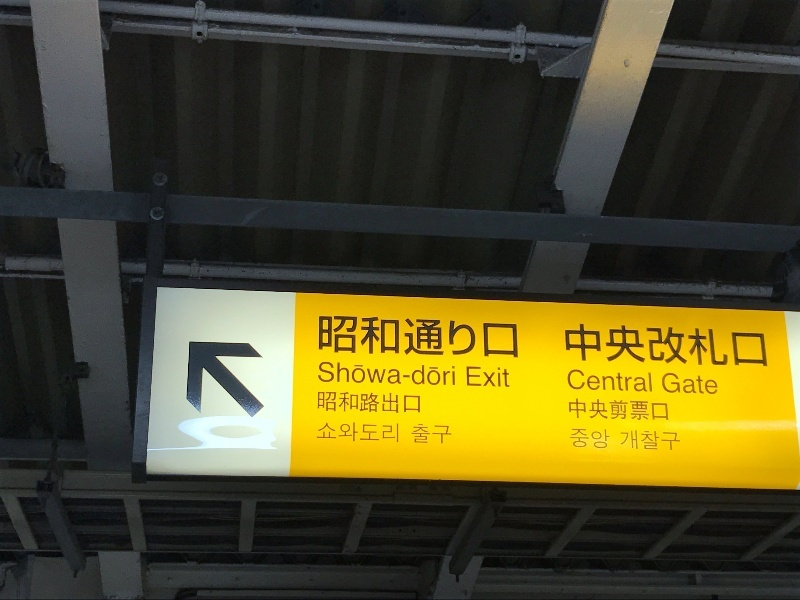text: (577, 322, 592, 370), (593, 322, 608, 370), (609, 322, 624, 370), (625, 322, 640, 370), (641, 322, 656, 370), (657, 322, 672, 370), (673, 322, 688, 370), (689, 322, 704, 370), (705, 322, 720, 370), (721, 322, 736, 370), (737, 322, 752, 370), (753, 322, 768, 370), (321, 314, 336, 361), (337, 314, 352, 361), (353, 314, 368, 361), (369, 314, 384, 361), (385, 314, 400, 361), (401, 314, 416, 361), (417, 314, 432, 361), (433, 314, 448, 361), (449, 314, 464, 361), (465, 314, 480, 361), (481, 314, 496, 361), (497, 314, 512, 361), (565, 322, 576, 370), (321, 360, 336, 388), (337, 360, 352, 388), (353, 360, 368, 388), (369, 360, 384, 388), (385, 360, 400, 388), (401, 360, 416, 388), (417, 360, 432, 388), (433, 360, 448, 388), (673, 371, 688, 397), (689, 371, 704, 397), (513, 314, 521, 361), (321, 390, 336, 415), (337, 390, 352, 415), (353, 390, 368, 415), (369, 390, 384, 415), (385, 390, 400, 415), (401, 390, 416, 415), (385, 422, 401, 445), (705, 371, 719, 397), (465, 365, 480, 389), (481, 365, 496, 389), (577, 398, 592, 422), (593, 398, 608, 422), (609, 398, 624, 422), (625, 398, 640, 422), (641, 398, 656, 422), (577, 370, 592, 393), (593, 370, 608, 393), (609, 370, 624, 393), (625, 370, 640, 393), (321, 422, 336, 445), (337, 422, 352, 445), (353, 422, 368, 445), (369, 422, 384, 445), (417, 422, 432, 445), (433, 422, 448, 445), (577, 427, 592, 450), (593, 427, 608, 450), (497, 365, 511, 389), (625, 429, 640, 450), (641, 429, 656, 450), (657, 429, 672, 450), (657, 398, 669, 422), (641, 370, 653, 393), (662, 371, 672, 397), (449, 360, 457, 388), (567, 398, 576, 422), (673, 429, 683, 450), (567, 370, 576, 393), (569, 427, 576, 450), (417, 390, 422, 415), (411, 422, 416, 445), (318, 314, 320, 361), (317, 390, 320, 415), (317, 422, 320, 445), (449, 422, 452, 445), (609, 427, 612, 450), (621, 429, 624, 450), (319, 360, 320, 388)
